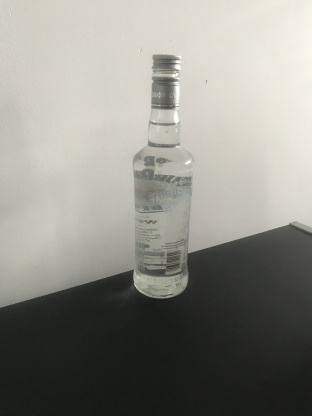nakretka: (150, 53, 181, 110)
